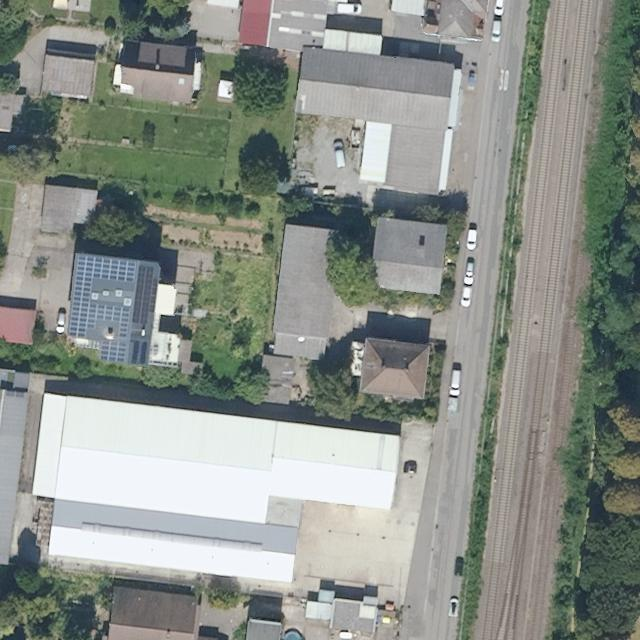PV: (63, 252, 142, 367), (131, 264, 160, 325), (130, 339, 149, 366)
